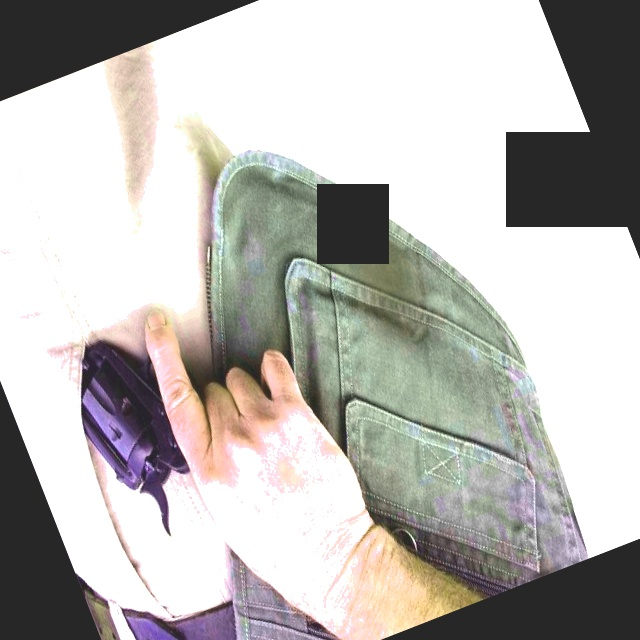gun: (36, 258, 311, 567)
